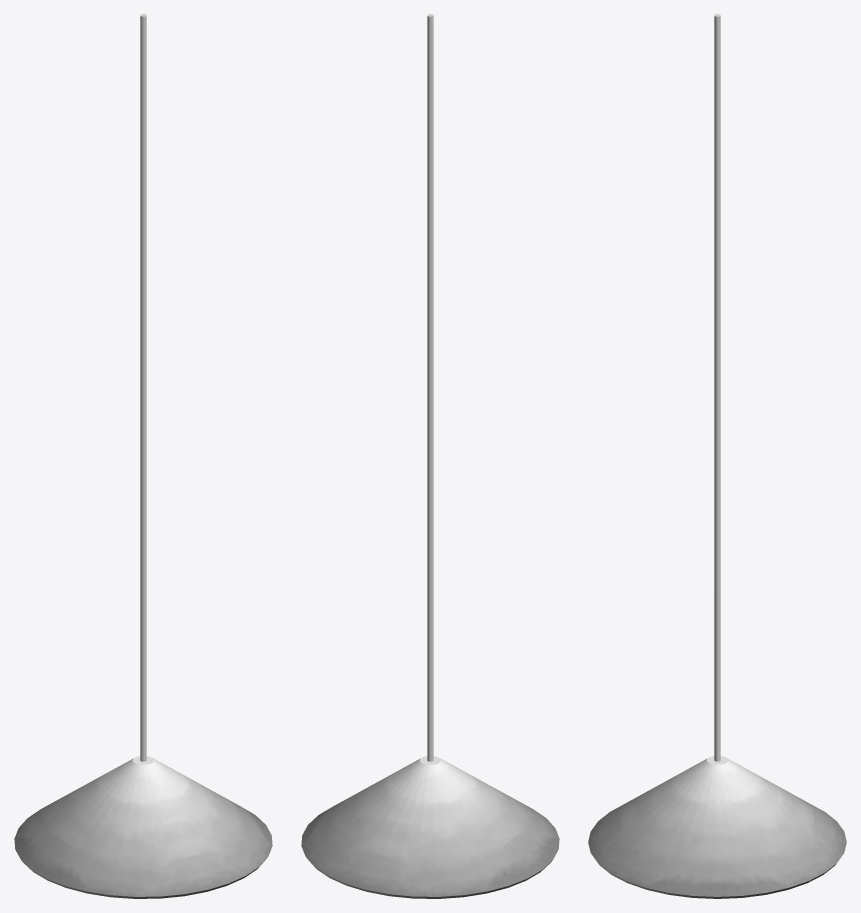
File: ceiling_lamp.fbx
3 renders of one model, left to right at view 1: azimuth 30°, elevation 25°; view 2: azimuth 150°, elevation 25°; view 3: azimuth 270°, elevation 25°, orthographic.
Parts seen in each view (by area): view 1: ceiling_lamp, wire; view 2: ceiling_lamp, wire; view 3: ceiling_lamp, wire.
Part boxes in pixels (x1,y1,x2,y2): ceiling_lamp: [14, 756, 272, 898]; wire: [140, 14, 146, 761]; ceiling_lamp: [301, 756, 559, 898]; wire: [427, 14, 433, 761]; ceiling_lamp: [588, 756, 846, 898]; wire: [714, 14, 720, 761].
Size of the model in its own units: 200 by 708 by 200.
